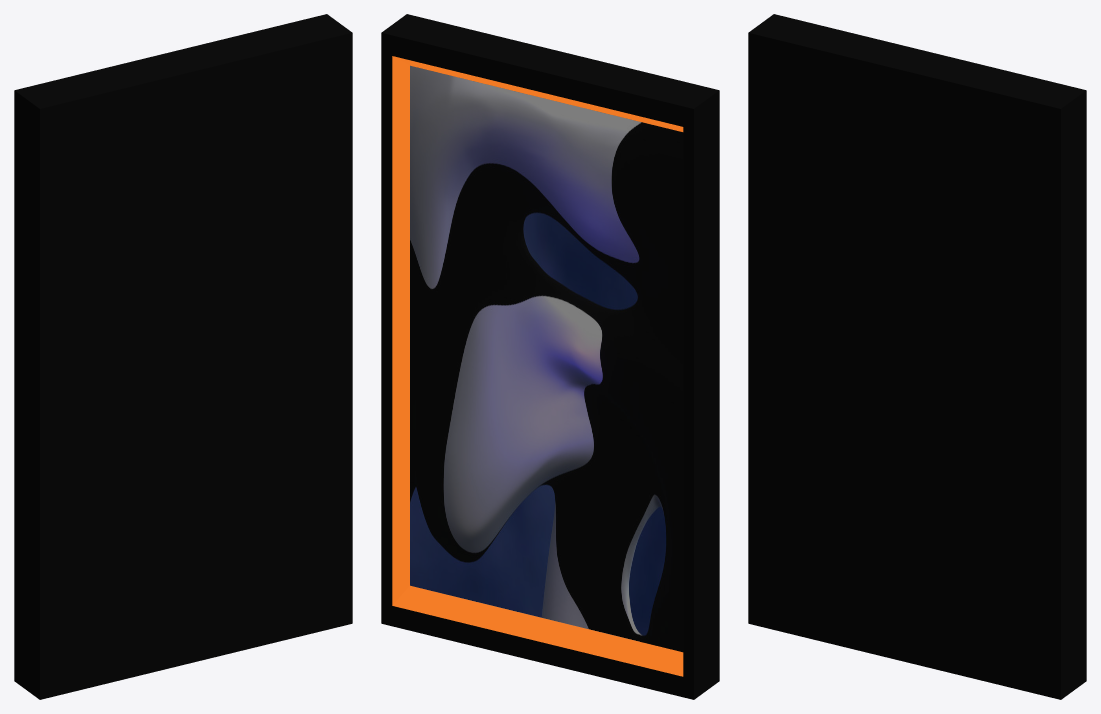
Rendered from PictureFrame1.glb.
3 renders of one model, left to right at view 1: azimuth 30°, elevation 25°; view 2: azimuth 150°, elevation 25°; view 3: azimuth 330°, elevation 25°, orthographic.
Parts seen in each view (by area): view 1: Cube.140; view 2: Cube.140; view 3: Cube.140.
Boxes of the visible parts, x1,y1,x2,y2 form: Cube.140: (14,14,352,699); Cube.140: (381,14,719,699); Cube.140: (748,14,1086,699).
Bounding box in the file's own units: 2.94 × 5.31 × 0.4176.
3 materials, 1 textured.
